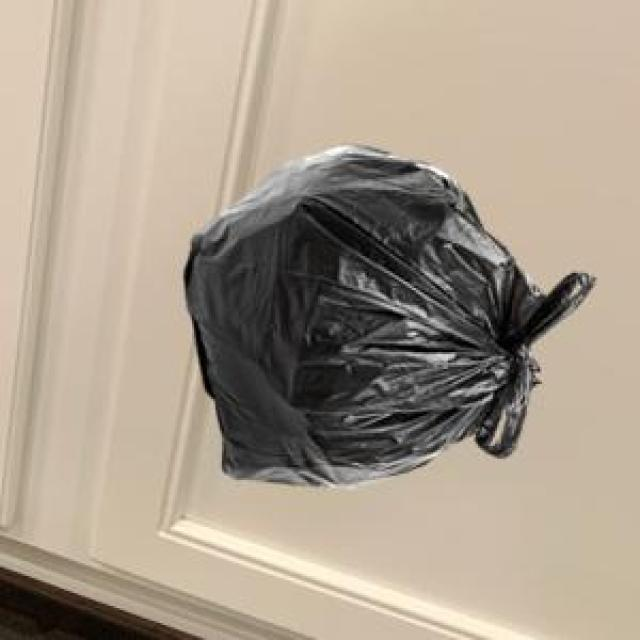waste: (185, 146, 595, 484)
